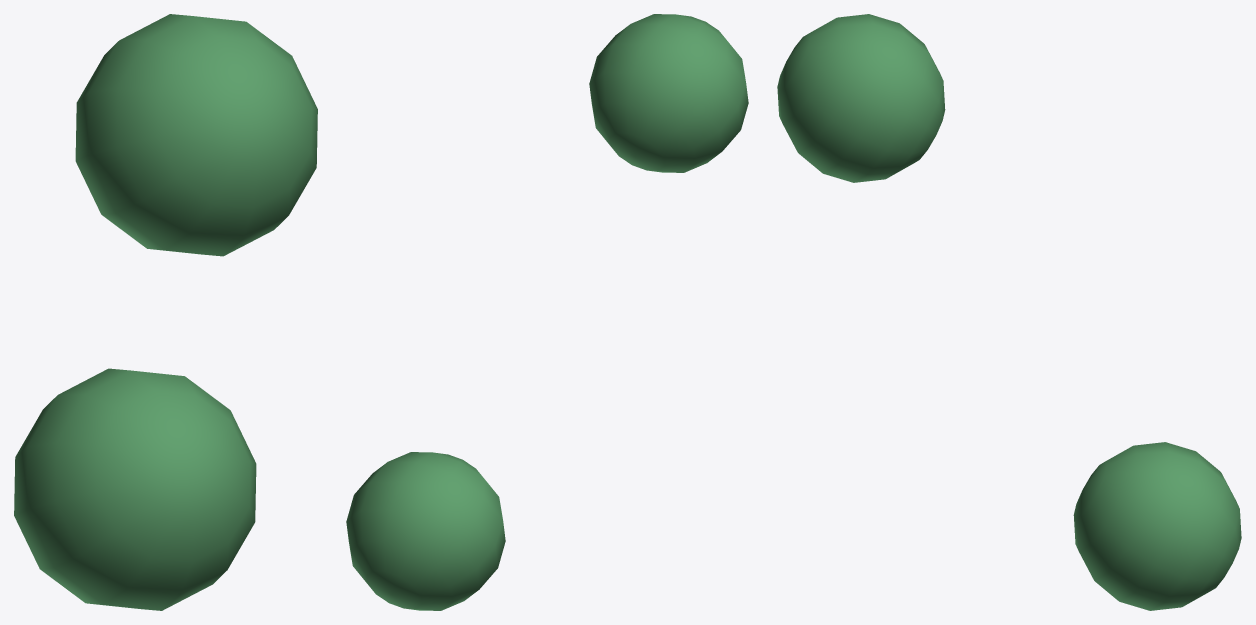
3 views of the same model, side by side, from view 1: azimuth 30°, elevation 25°; view 2: azimuth 150°, elevation 25°; view 3: azimuth 270°, elevation 25° (orthographic). The views are drawn at different scales.
Parts seen in each view (by area): view 1: 左侧枕淋巴结; view 2: 左侧枕淋巴结; view 3: 左侧枕淋巴结.
Boxes of the visible parts, x1,y1,x2,y2 form: 左侧枕淋巴结: [14, 14, 317, 610]; 左侧枕淋巴结: [346, 14, 748, 610]; 左侧枕淋巴结: [777, 14, 1241, 610].
Bounding box in the file's own units: 0.0066 × 0.0132 × 0.0105.
